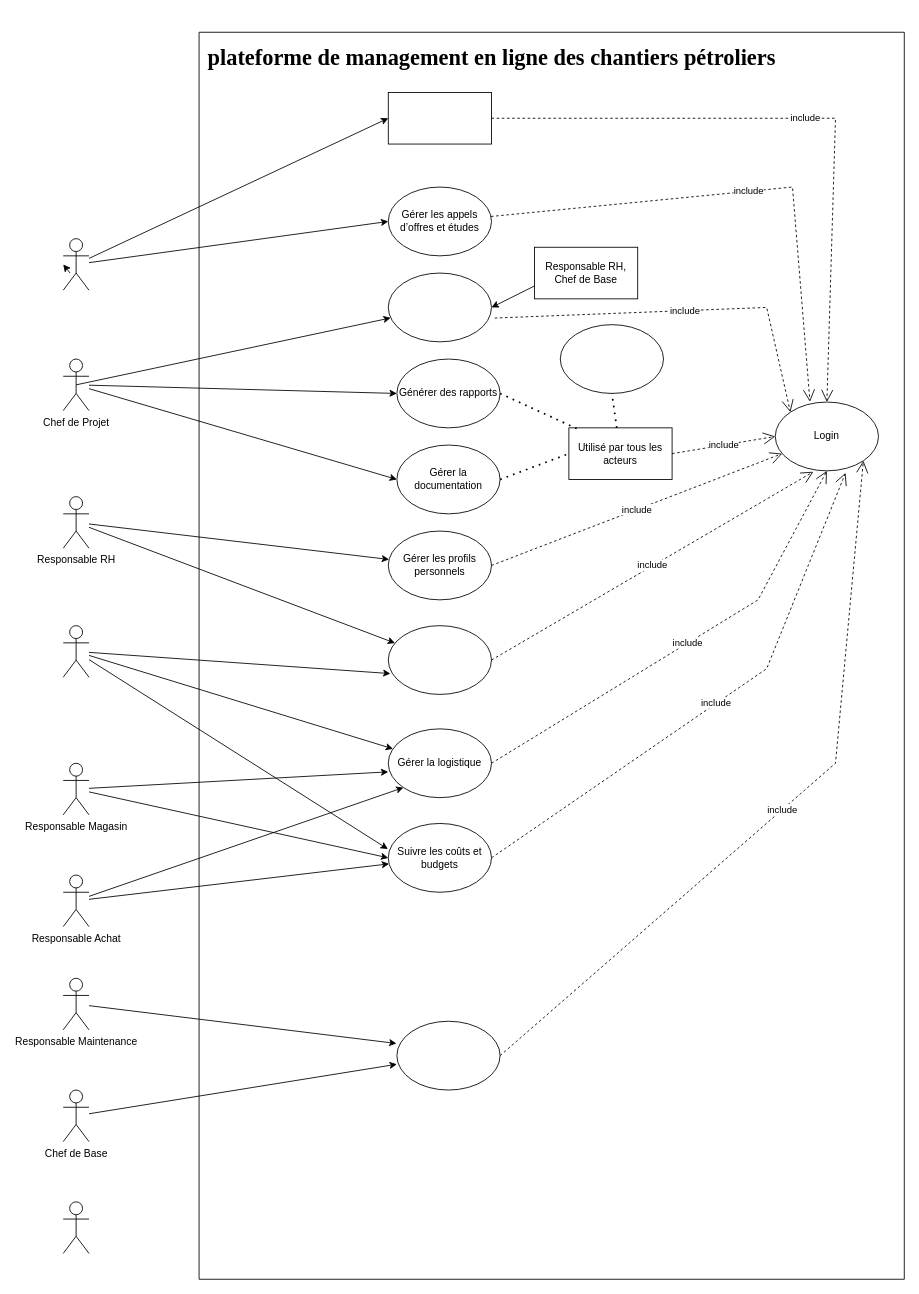
This 919x1294 diagram has some shape labels left out. Here are the shapes that lost their labels. From the top down, the centre of each, then its label:
At (x=439, y=118): "Manager interagit avec tous".
At (x=75, y=264): "Manager".
At (x=439, y=307): "Gérer les tâches et plannings".
At (x=611, y=358): "Faciliter la communication".
At (x=75, y=651): "Responsable Logistique".
At (x=439, y=659): "Gérer les ressources humaines et matérielles".
At (x=448, y=1055): "Suivre la conformité".
At (x=75, y=1227): "Chef Opérateur".
